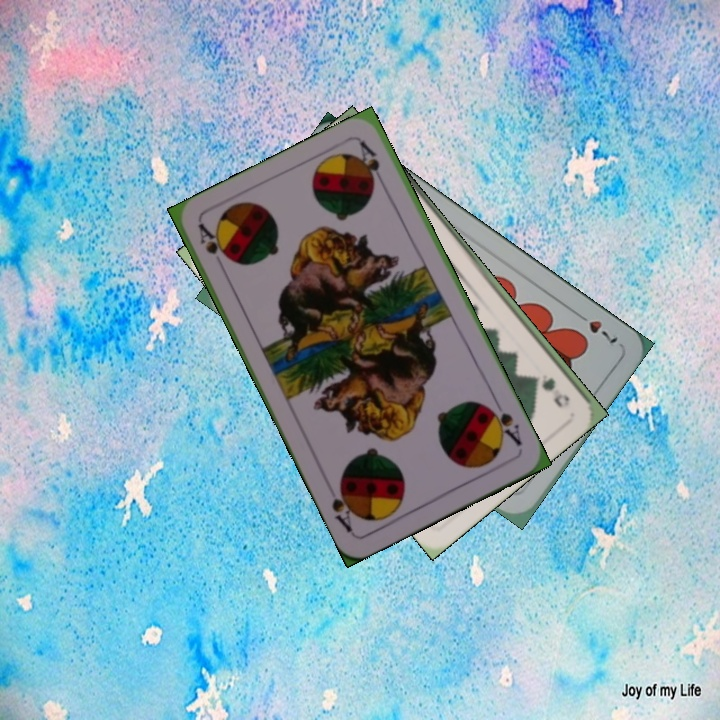G9: (530, 369, 572, 409)
H7: (571, 308, 621, 346)
SA: (483, 401, 524, 449), (194, 219, 231, 263)
